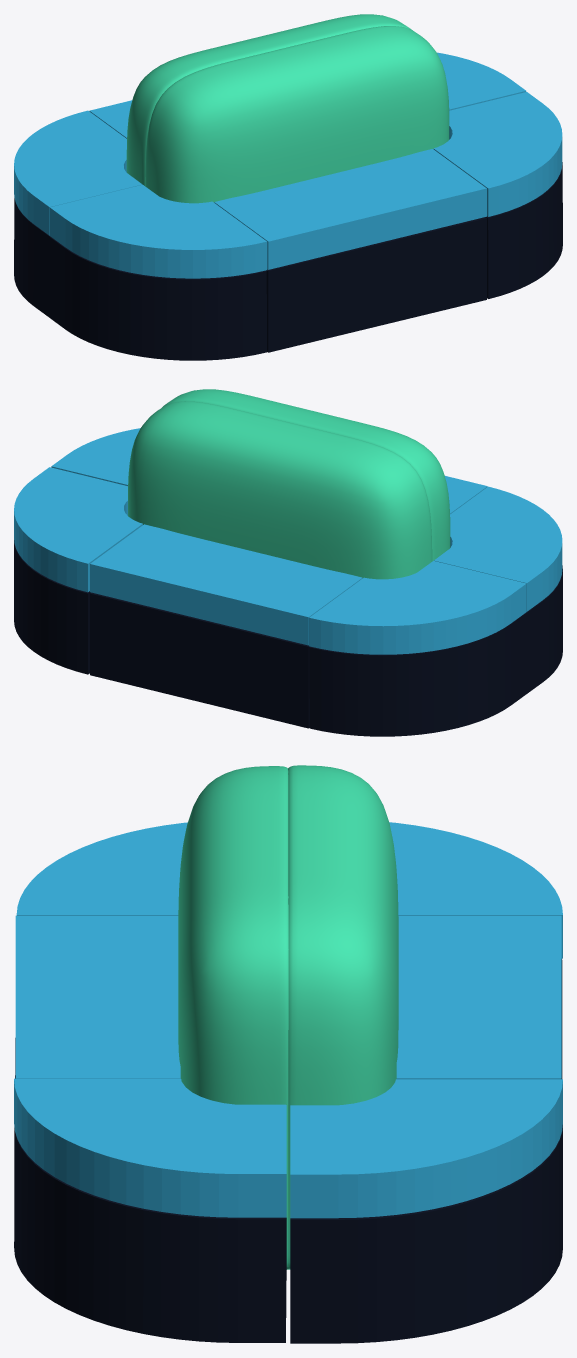
File: Sofa.fbx
3 renders of one model, top to bottom at view 1: azimuth 30°, elevation 25°; view 2: azimuth 150°, elevation 25°; view 3: azimuth 270°, elevation 25°, orthographic. The views are drawn at different scales.
Parts seen in each view (by area): view 1: Cube.013, Cube.007, Cube.006, Cube.017, Cube.019, Cube.018, Cube.016, Cube.012, Cube.008, Cube.002, Cube.014, Cube.015; view 2: Cube.012, Cube.001, Cube.002, Cube.015, Cube.016, Cube.014, Cube.019, Cube.013, Cube, Cube.006, Cube.018, Cube.017; view 3: Cube.012, Cube.013, Cube, Cube.008, Cube.018, Cube.014, Cube.015, Cube.017, Cube.016, Cube.019.
Boxes of the visible parts, bbox=[...] form: Cube.013: bbox=[145, 26, 449, 203]; Cube.007: bbox=[266, 217, 486, 352]; Cube.006: bbox=[49, 236, 266, 360]; Cube.017: bbox=[214, 149, 486, 269]; Cube.019: bbox=[49, 184, 267, 278]; Cube.018: bbox=[433, 92, 562, 216]; Cube.016: bbox=[14, 110, 142, 235]; Cube.012: bbox=[126, 14, 411, 185]; Cube.008: bbox=[486, 162, 562, 298]; Cube.002: bbox=[14, 198, 50, 317]; Cube.014: bbox=[437, 52, 526, 110]; Cube.015: bbox=[89, 100, 132, 138]; Cube.012: bbox=[128, 401, 432, 579]; Cube.001: bbox=[90, 592, 309, 728]; Cube.002: bbox=[309, 612, 526, 736]; Cube.015: bbox=[90, 524, 362, 645]; Cube.016: bbox=[309, 561, 526, 654]; Cube.014: bbox=[14, 467, 142, 592]; Cube.019: bbox=[434, 486, 562, 611]; Cube.013: bbox=[162, 389, 450, 561]; Cube: bbox=[14, 540, 90, 674]; Cube.006: bbox=[526, 565, 562, 693]; Cube.018: bbox=[51, 428, 140, 485]; Cube.017: bbox=[445, 476, 487, 514]; Cube.012: bbox=[288, 765, 398, 1269]; Cube.013: bbox=[178, 766, 288, 1269]; Cube: bbox=[290, 1125, 562, 1343]; Cube.008: bbox=[14, 1128, 286, 1342]; Cube.018: bbox=[14, 1078, 286, 1217]; Cube.014: bbox=[290, 1079, 562, 1218]; Cube.015: bbox=[396, 915, 561, 1079]; Cube.017: bbox=[15, 915, 180, 1078]; Cube.016: bbox=[389, 822, 562, 958]; Cube.019: bbox=[16, 822, 187, 915].
Bounding box in the file's own units: 746 × 323 × 487.
